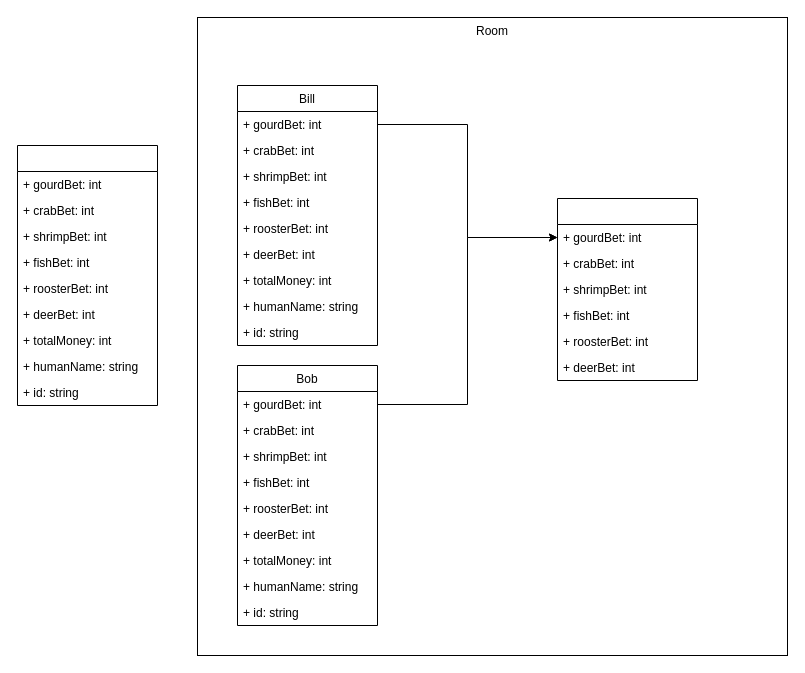
Image size: 805x673. Some labels were removed from this diagram. The box of each missing label's shape, as (x1, y1, x2, y2) in pixels:
Current Game: (556, 198, 698, 380)
User: (16, 144, 158, 406)
